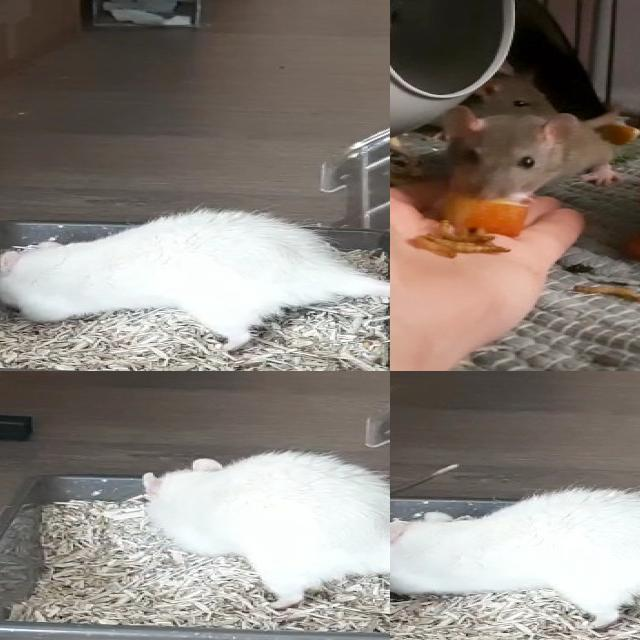rat: (0, 209, 332, 351), (139, 450, 390, 610), (390, 490, 640, 625), (441, 108, 616, 206)
